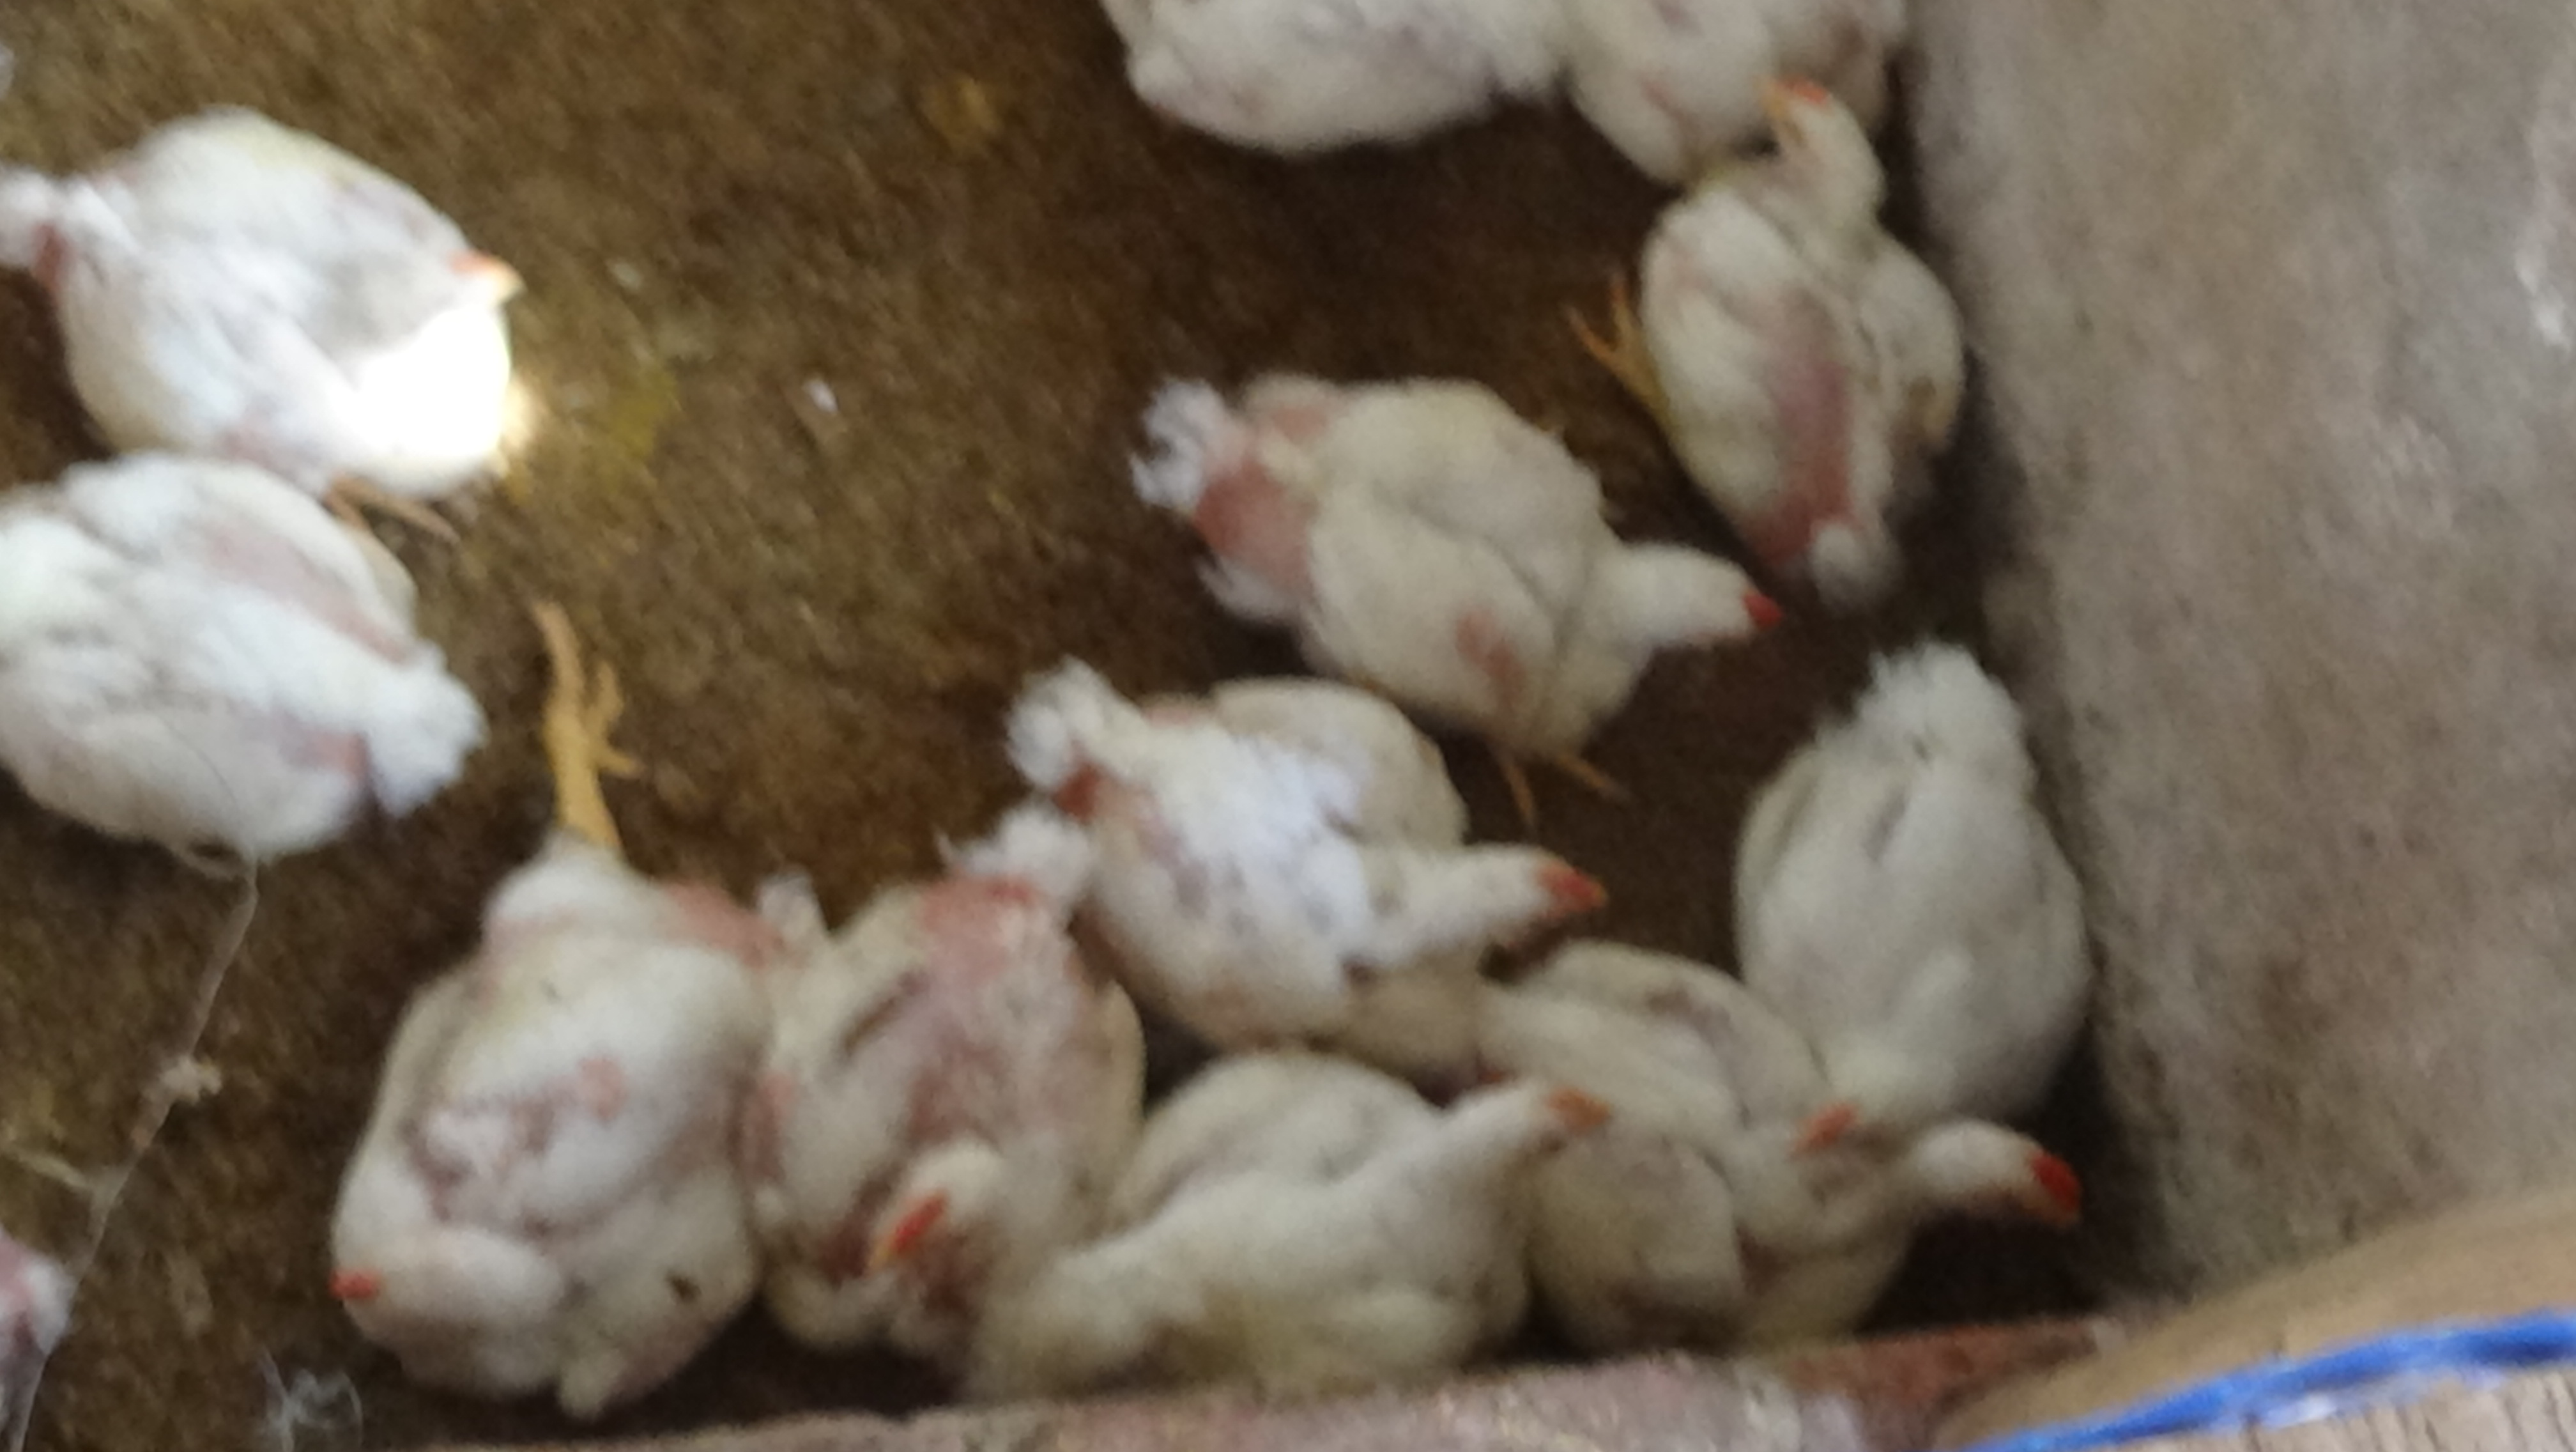Pollos: (280, 666, 791, 1415), (1122, 336, 1771, 827), (0, 9, 571, 510), (1490, 900, 2079, 1376), (1580, 57, 1985, 620), (718, 802, 1109, 1362), (16, 434, 462, 891), (1010, 666, 1605, 1002), (1051, 1055, 1614, 1379), (1759, 653, 2102, 1151)
